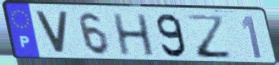1: (240, 15, 263, 61)
6: (78, 11, 112, 57)
9: (155, 13, 188, 59)
H: (111, 13, 157, 58)
V: (32, 9, 70, 57)
Z: (185, 13, 235, 61)
